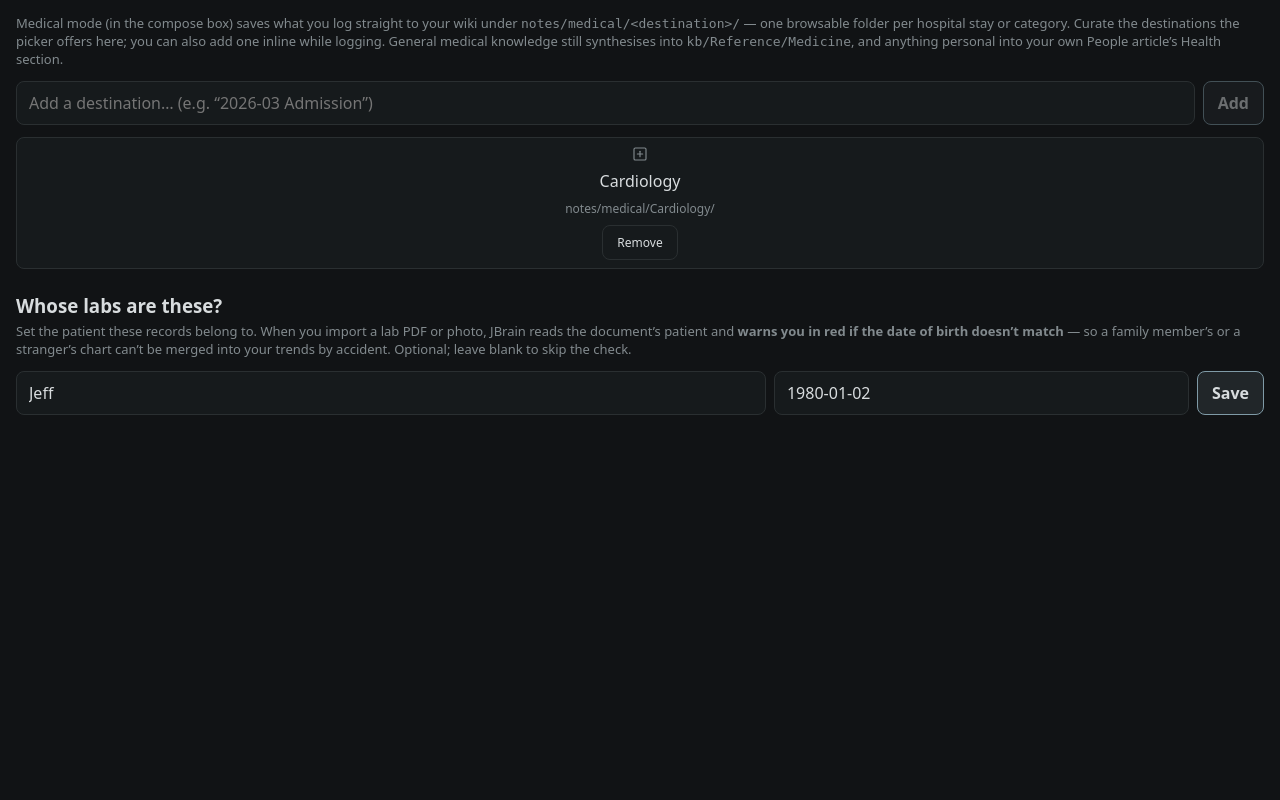
Test case: MedicalPage — add destination › Add PUTs the appended list and renders the new row
The width and height of the screenshot is (1280, 800).
Check: the text "Cardiology" is shown, box [600,170,680,192]
Type "Neurology" into the field with placeholder "Add a destination… (e.g. “2026-03 Admission”)". click: (605, 103)
box: [16,81,1195,125]
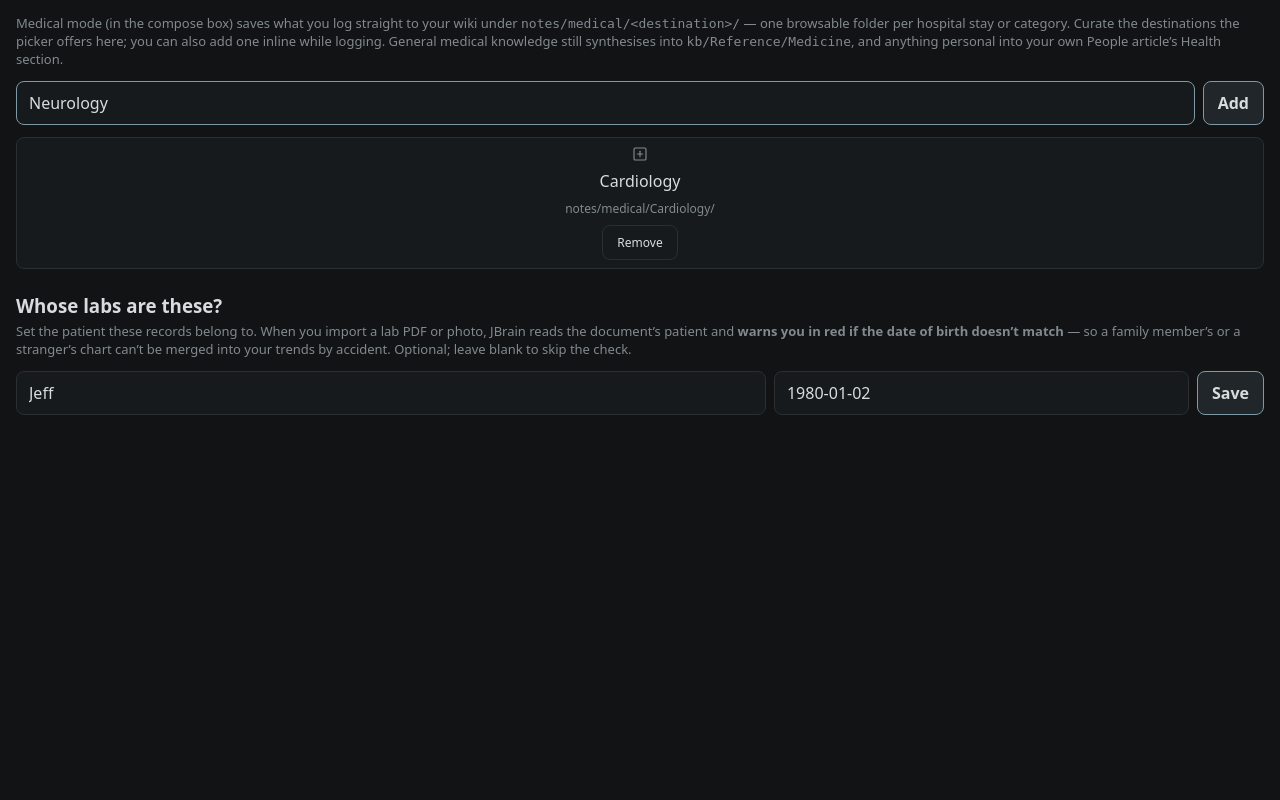
Click the button "Add". click: (1233, 103)
box: [1203,81,1264,125]
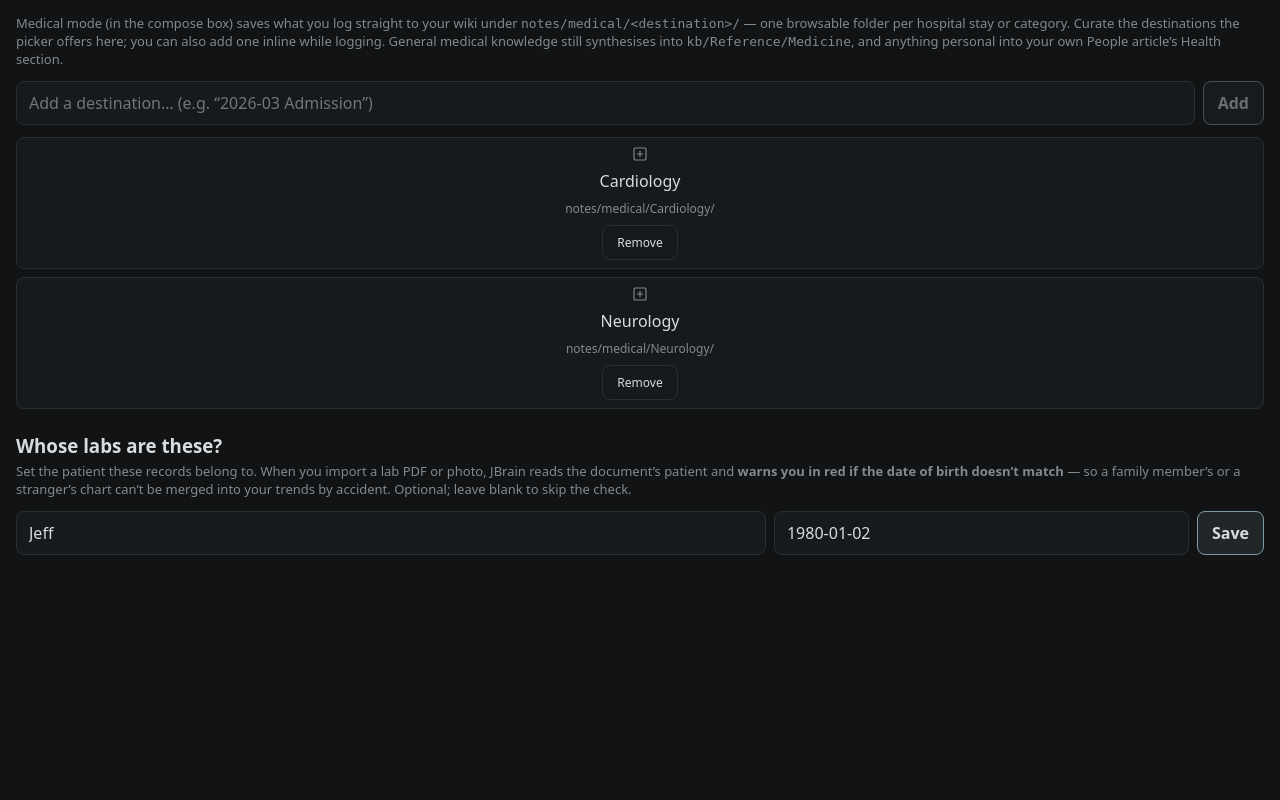
Check: the text "Neurology" is shown, box [601,310,680,332]
Check: the field with placeholder "Add a destination… (e.g. “2026-03 Admission”)" is empty, box [16,81,1195,125]
